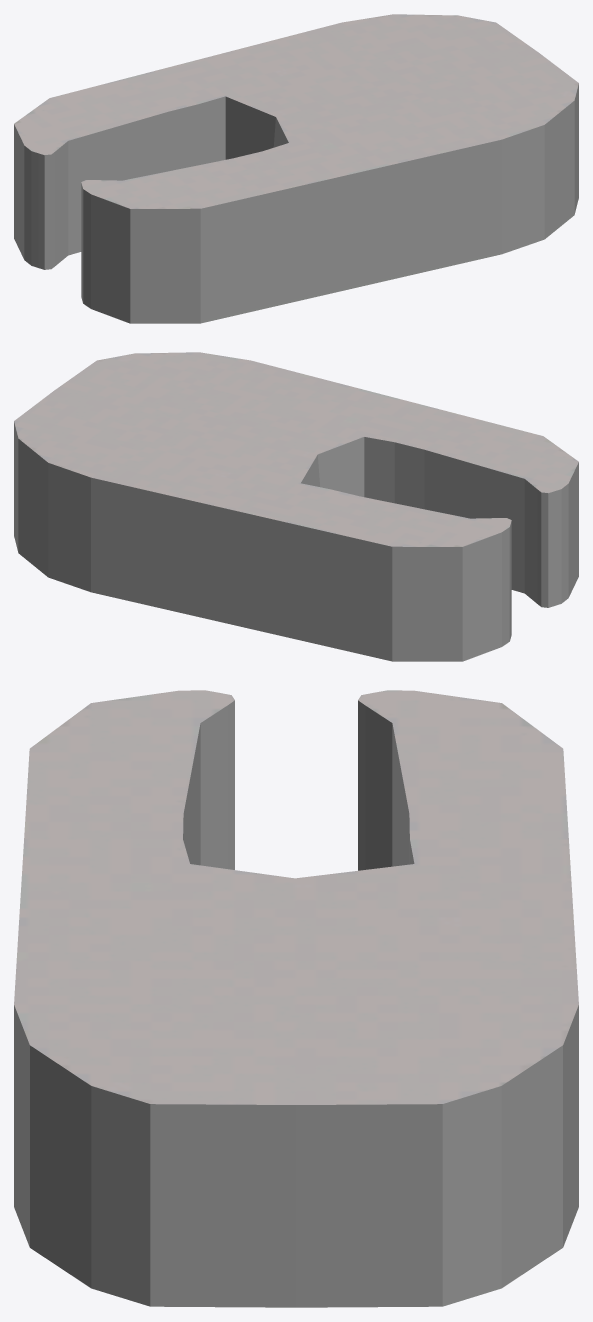
The model's file is DoorStopper.fbx.
3 views of the same model, one above another, from view 1: azimuth 30°, elevation 25°; view 2: azimuth 150°, elevation 25°; view 3: azimuth 270°, elevation 25° (orthographic). The views are drawn at different scales.
Parts seen in each view (by area): view 1: DoorStopper; view 2: DoorStopper; view 3: DoorStopper.
Boxes of the visible parts, x1,y1,x2,y2 form: DoorStopper: (14,14,578,323); DoorStopper: (14,352,578,661); DoorStopper: (14,690,578,1307).
Size of the model in its own units: 527 by 120 by 303.
